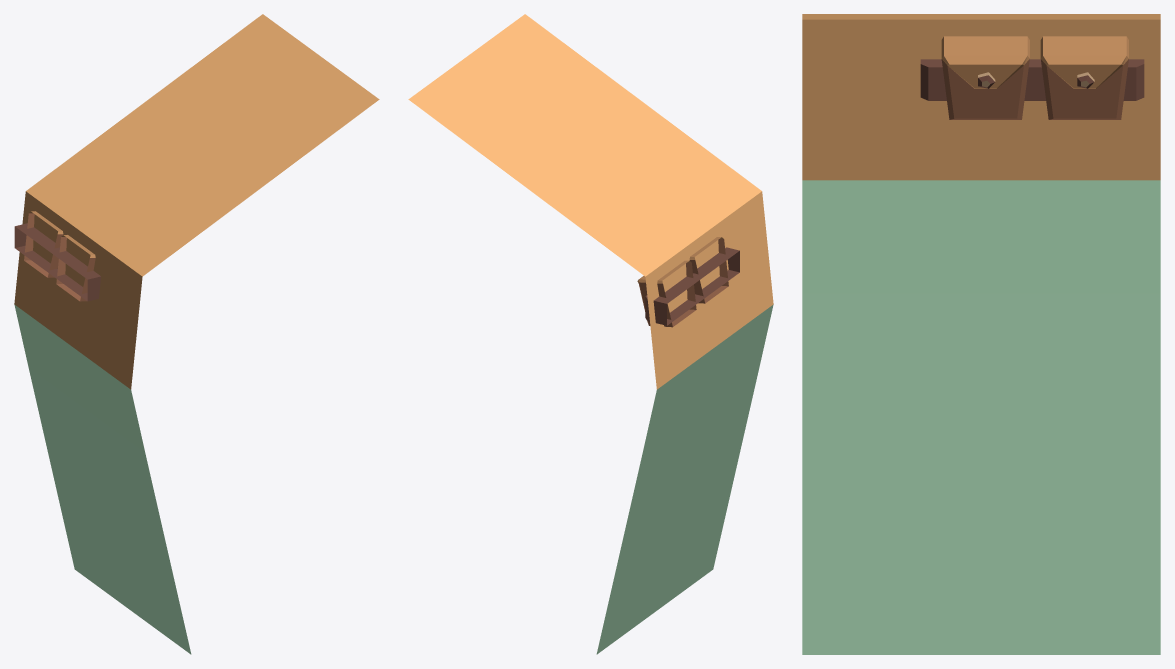
File: Lateral1.FBX
The picture shows the model from 3 angles, left to right: view 1: azimuth 30°, elevation 25°; view 2: azimuth 150°, elevation 25°; view 3: azimuth 270°, elevation 25°; orthographic projection. The views are drawn at different scales.
Visible parts, largest first — view 1: Laterales00; view 2: Laterales00; view 3: Laterales00.
Part boxes in pixels (x1,y1,x2,y2): Laterales00: (14,14,379,654); Laterales00: (408,14,773,654); Laterales00: (802,14,1160,654).
Bounding box in the file's own units: 376 × 300 × 722.
1 material, 1 textured.
